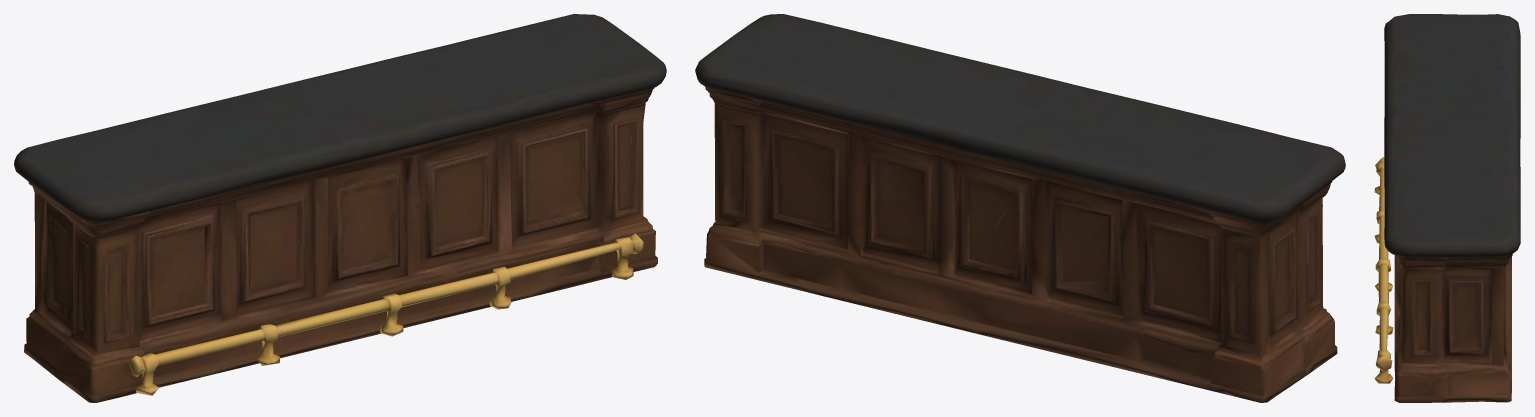
File: counter.glb
The picture shows the model from 3 angles, left to right: view 1: azimuth 30°, elevation 25°; view 2: azimuth 150°, elevation 25°; view 3: azimuth 270°, elevation 25°; orthographic projection. The views are drawn at different scales.
Visible parts, largest first — view 1: tripo_node_3826e0a5-cb24-49d9-bd44-1037efd3c6e2; view 2: tripo_node_3826e0a5-cb24-49d9-bd44-1037efd3c6e2; view 3: tripo_node_3826e0a5-cb24-49d9-bd44-1037efd3c6e2.
Boxes of the visible parts, bbox=[...] form: tripo_node_3826e0a5-cb24-49d9-bd44-1037efd3c6e2: bbox=[14, 14, 666, 402]; tripo_node_3826e0a5-cb24-49d9-bd44-1037efd3c6e2: bbox=[695, 14, 1345, 402]; tripo_node_3826e0a5-cb24-49d9-bd44-1037efd3c6e2: bbox=[1374, 14, 1520, 402].
Bounding box in the file's own units: 0.9801 × 0.3192 × 0.2594.
Materials: 1 (1 with a texture image).
